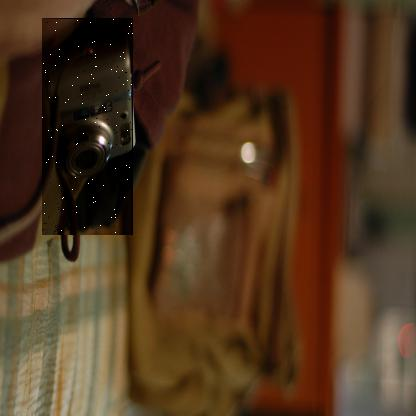Camera: (43, 19, 135, 237)
